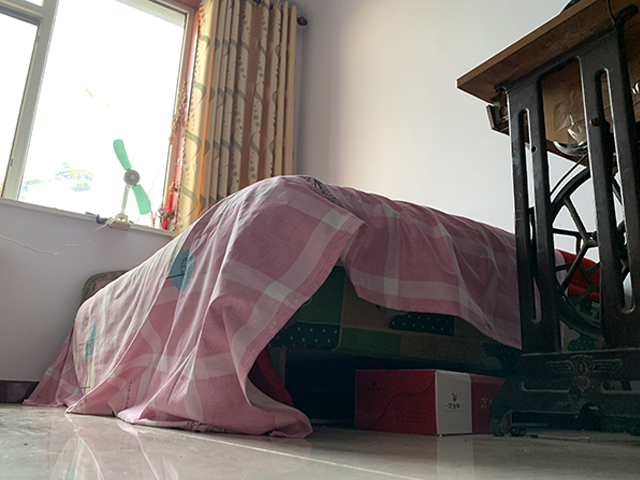bed: (21, 172, 601, 440)
